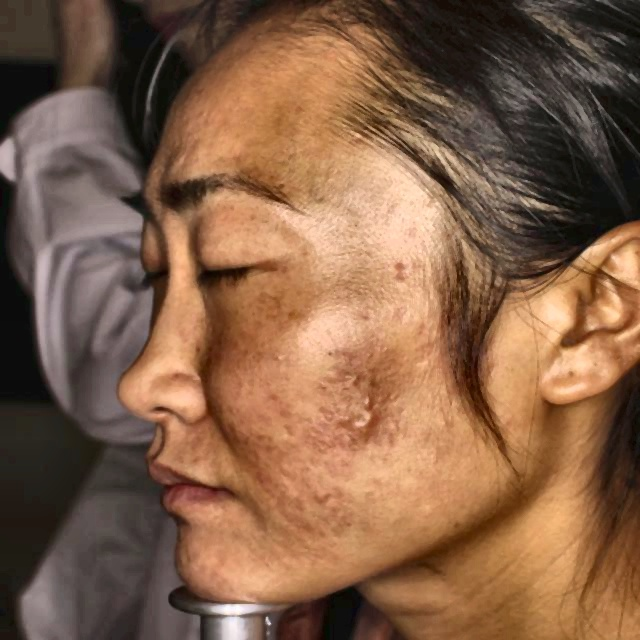comedone: (340, 418, 381, 440), (353, 388, 386, 413)
